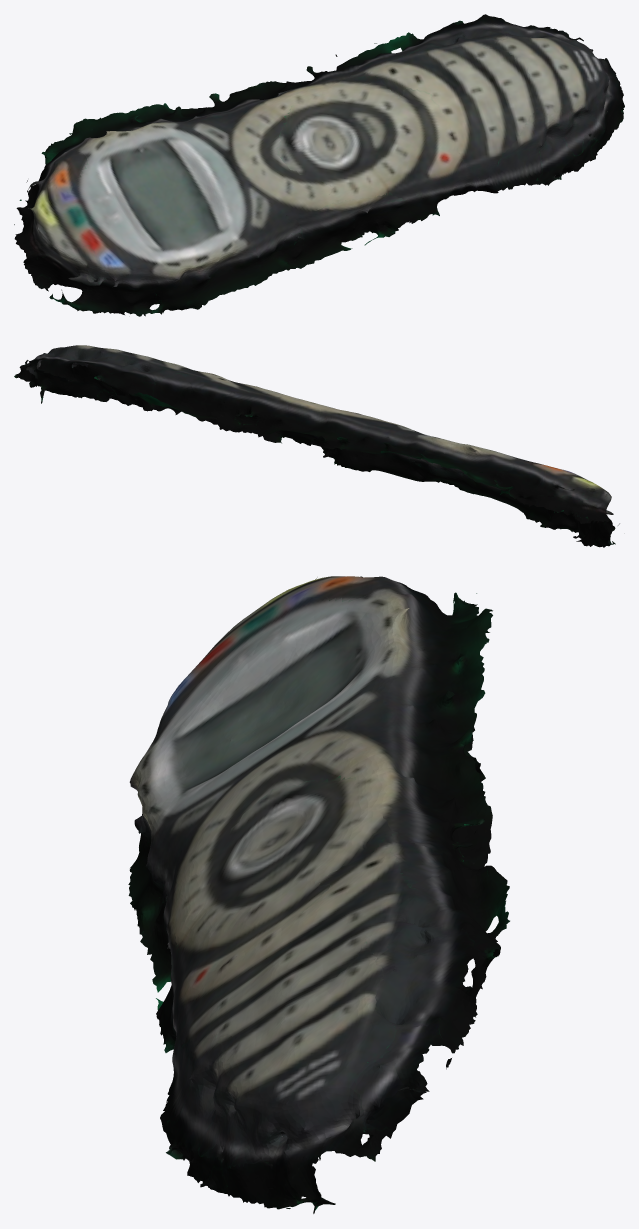
File: Universal_Remote.obj
3 views of the same model, one above another, from view 1: azimuth 30°, elevation 25°; view 2: azimuth 150°, elevation 25°; view 3: azimuth 270°, elevation 25° (orthographic). The views are drawn at different scales.
Bounding box in the file's own units: 1.2 × 0.2569 × 0.3399.
Materials: 1 (1 with a texture image).
